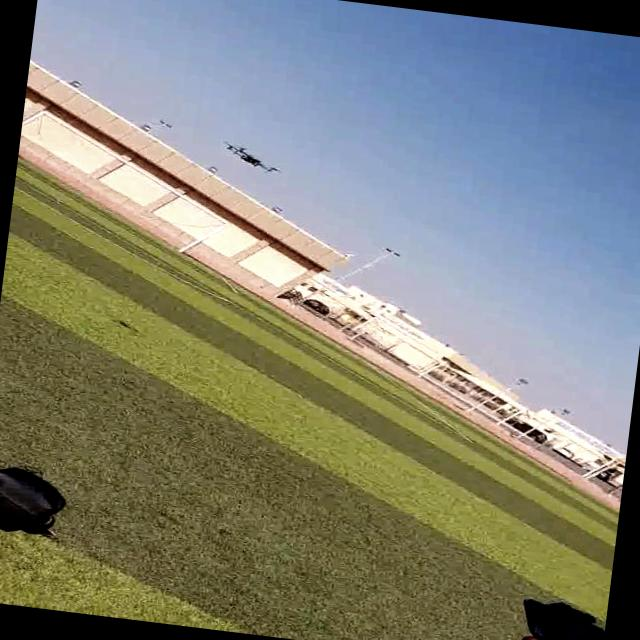drone: (212, 137, 286, 179)
